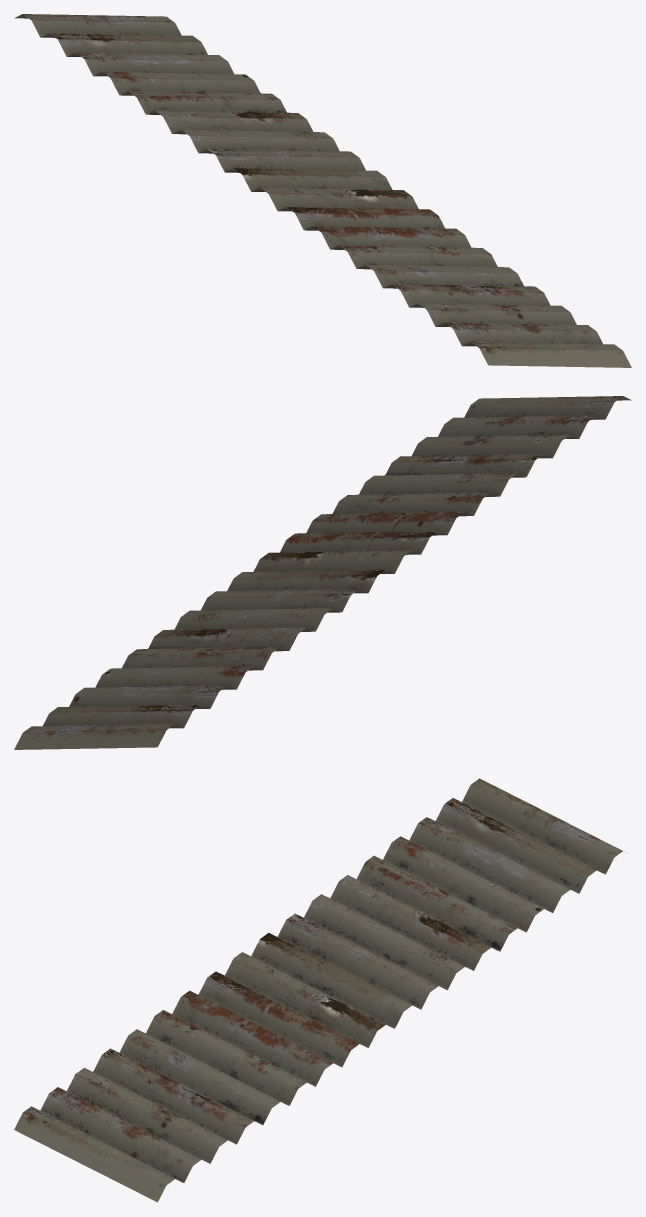
File: Metal_Roof_End.fbx
3 views of the same model, one above another, from view 1: azimuth 30°, elevation 25°; view 2: azimuth 150°, elevation 25°; view 3: azimuth 330°, elevation 25° (orthographic).
Parts seen in each view (by area): view 1: Metal_Roof_End; view 2: Metal_Roof_End; view 3: Metal_Roof_End.
Boxes of the visible parts, <box> form: Metal_Roof_End: <box>14,14,631,367</box>; Metal_Roof_End: <box>14,396,631,749</box>; Metal_Roof_End: <box>14,778,628,1202</box>.
Size of the model in its own units: 0.7001 by 0.225 by 4.
